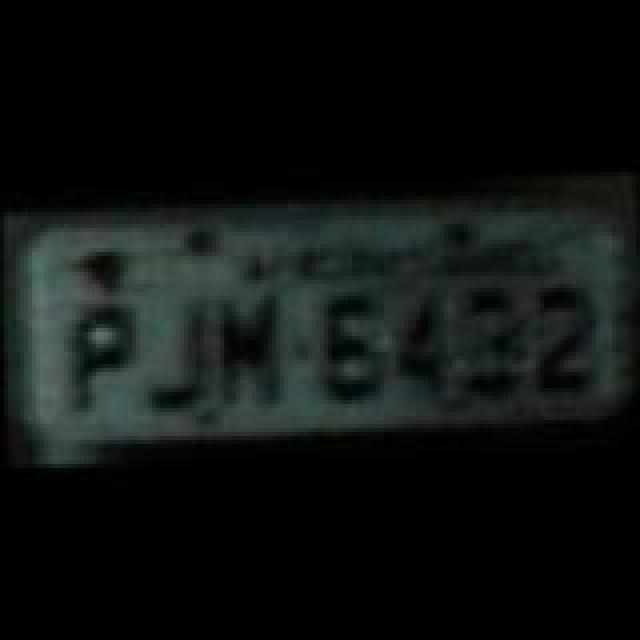2: (534, 288, 606, 400)
3: (464, 278, 532, 398)
4: (398, 288, 462, 400)
5: (320, 286, 388, 406)
J: (134, 288, 222, 416)
M: (210, 292, 290, 412)
P: (56, 294, 140, 418)
